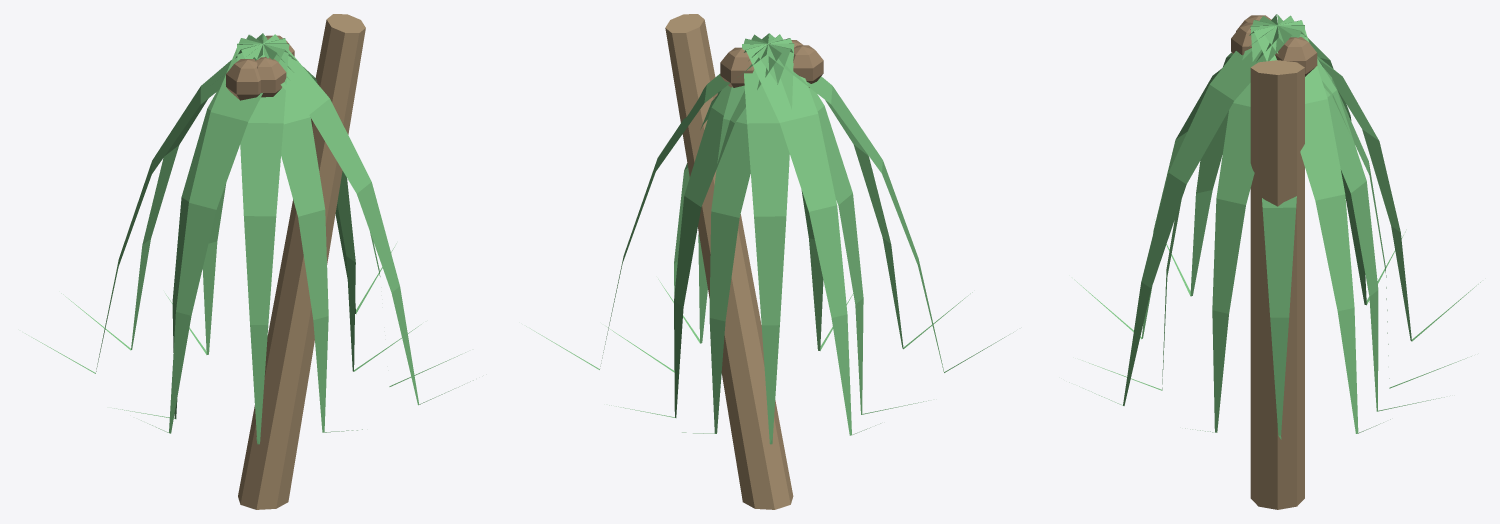
The model's file is palm_tree.glb.
3 renders of one model, left to right at view 1: azimuth 30°, elevation 25°; view 2: azimuth 150°, elevation 25°; view 3: azimuth 270°, elevation 25°, orthographic. The views are drawn at different scales.
Visible parts, largest first — view 1: PalmTree; view 2: PalmTree; view 3: PalmTree.
Part boxes in pixels (x1,y1,x2,y2): PalmTree: (25,14,473,509); PalmTree: (526,14,1013,509); PalmTree: (1069,14,1480,509).
Size of the model in its own units: 2.58 by 2.88 by 2.39.
